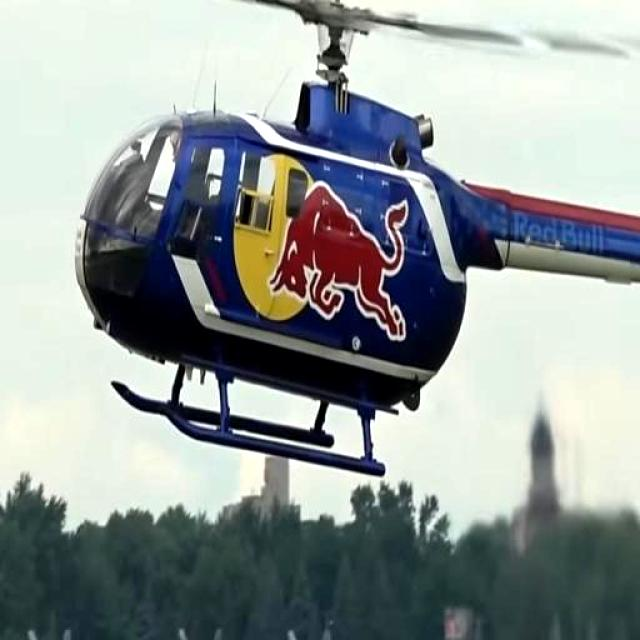drone: (10, 0, 640, 464)
